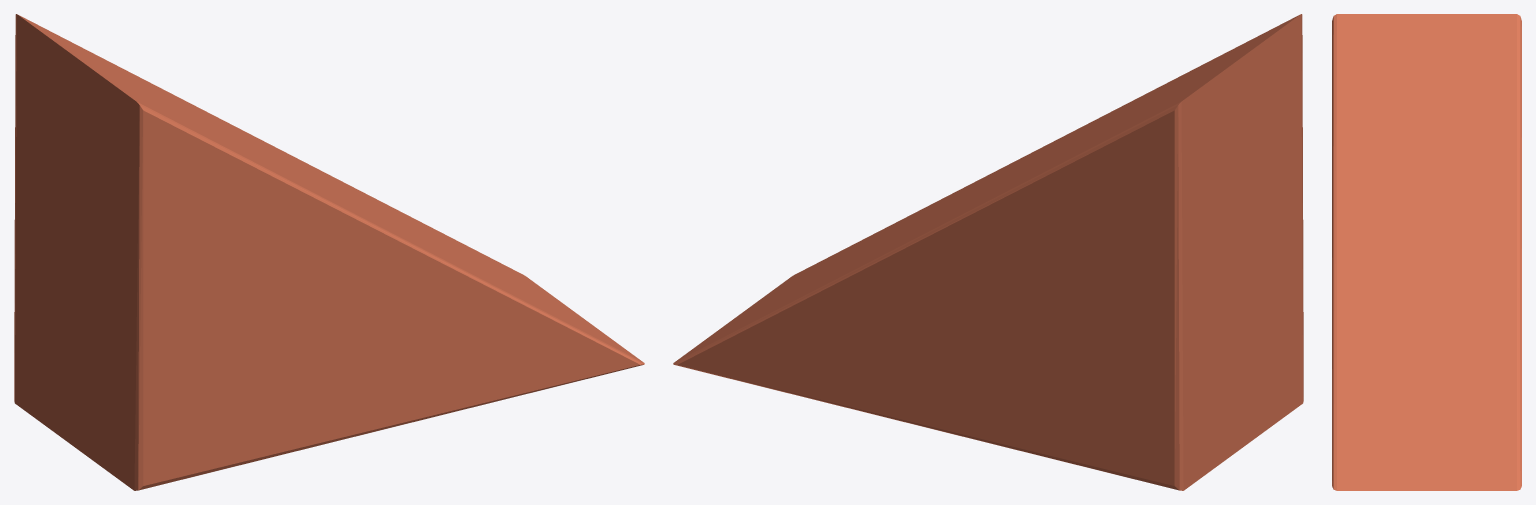
Rendered from editor-source.glb.
3 renders of one model, left to right at view 1: azimuth 30°, elevation 25°; view 2: azimuth 150°, elevation 25°; view 3: azimuth 270°, elevation 25°, orthographic. The views are drawn at different scales.
Parts seen in each view (by area): view 1: Wedge_Body; view 2: Wedge_Body; view 3: Wedge_Body.
Part boxes in pixels (x1,y1,x2,y2): Wedge_Body: [14, 14, 644, 490]; Wedge_Body: [673, 14, 1303, 490]; Wedge_Body: [1332, 14, 1521, 490].
Size of the model in its own units: 0.1847 by 0.1345 by 0.079.
